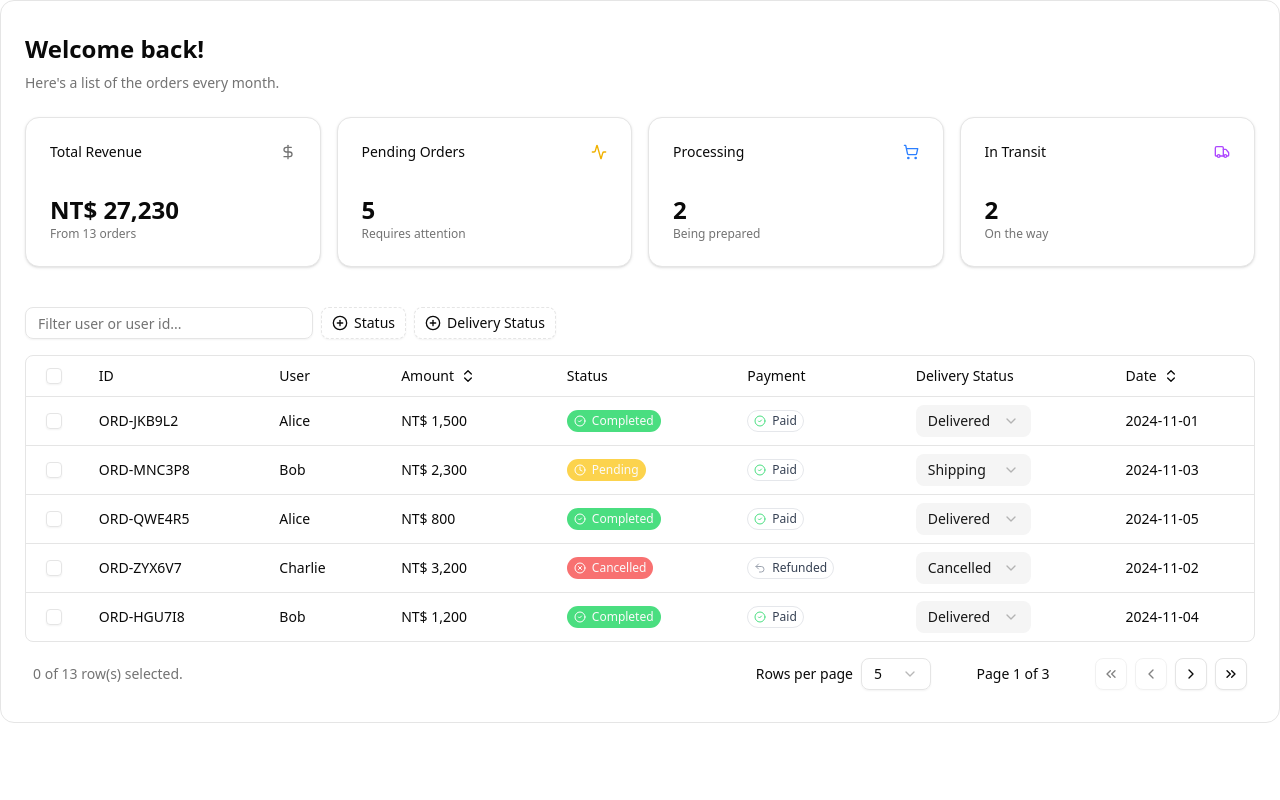
OrderManagementServer › Filter Functionality › removes filter when option is deselected
The width and height of the screenshot is (1280, 800).
Check: the text "Date" is shown, box x1=1126 y1=366 x2=1157 y2=386
Click the button "Status" at [364, 323], box x1=321 y1=307 x2=406 y2=339
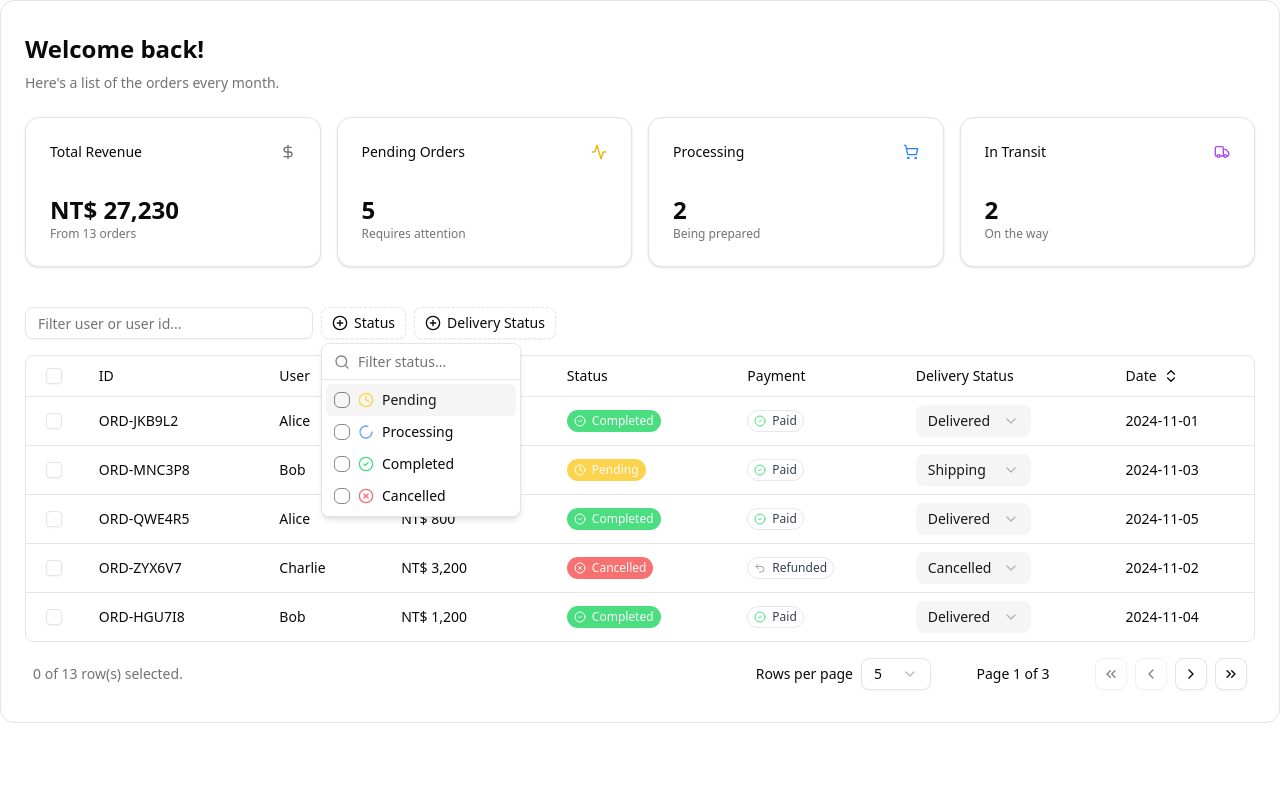
Check: the option "Pending" is shown
Click the option "Pending" at [421, 400], box x1=326 y1=384 x2=516 y2=416
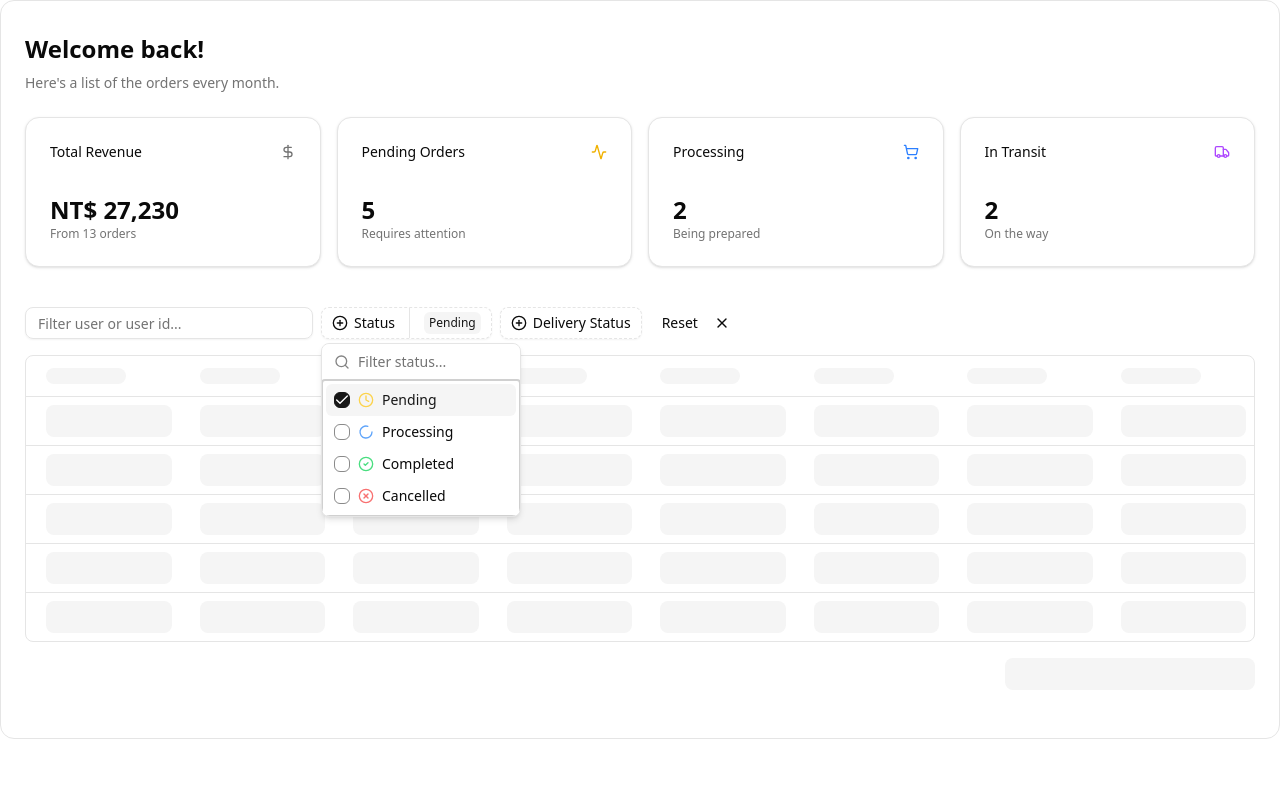
Note: Use Reset button to clear filters (more reliable than trying to reopen popover)
Click the button "Reset" at [696, 323], box x1=650 y1=307 x2=742 y2=339
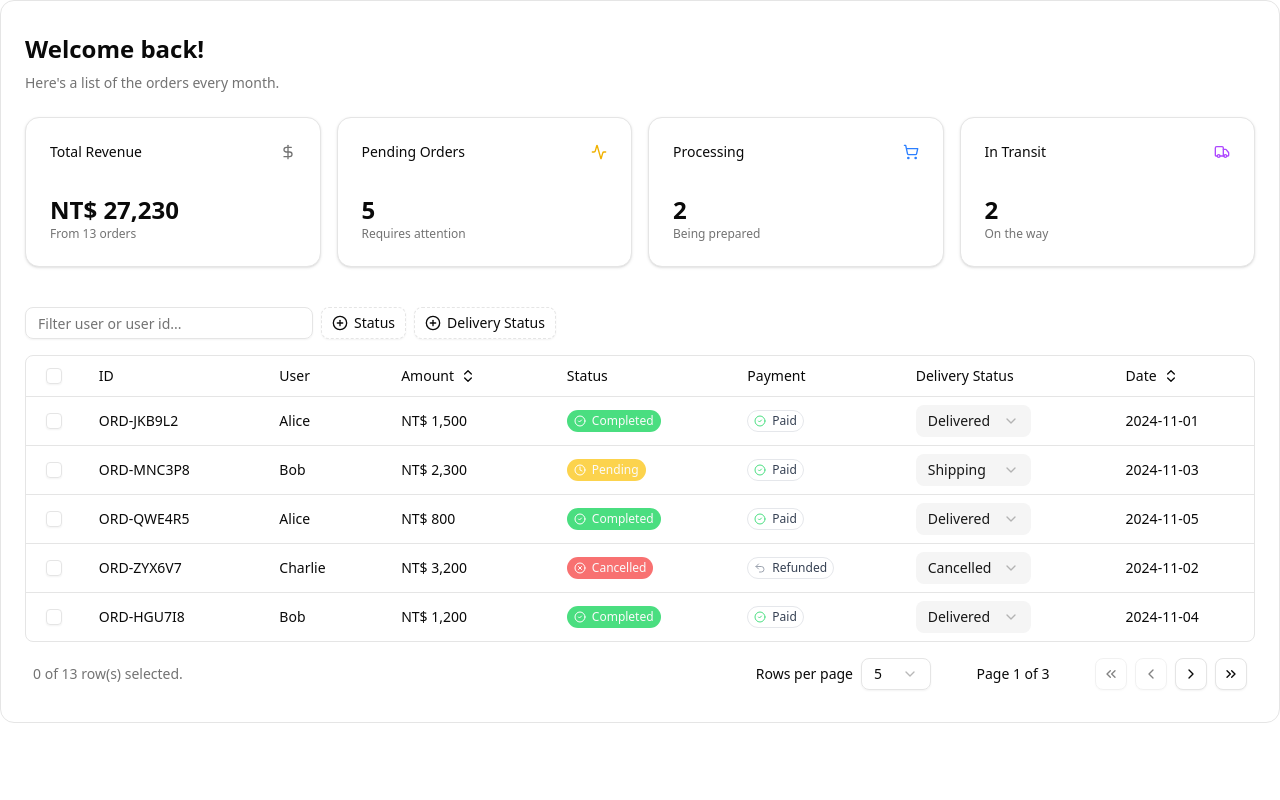
Check: the button "Reset" is gone
